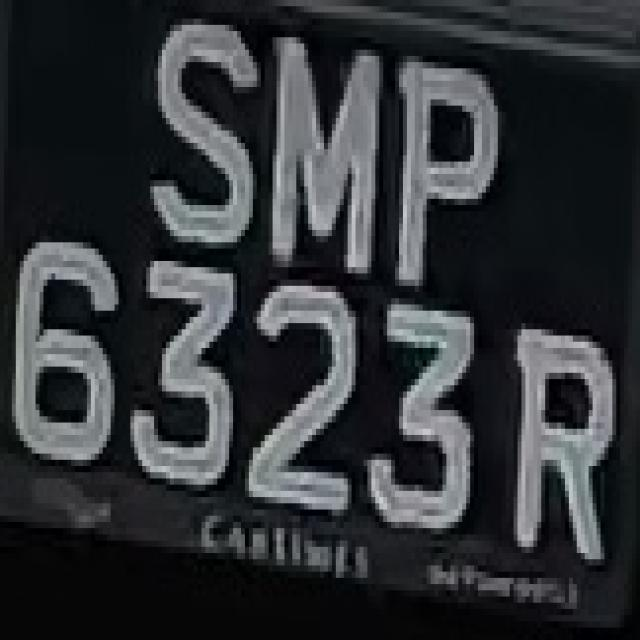2: (245, 280, 363, 528)
3: (126, 236, 249, 497), (364, 280, 470, 553)
6: (15, 217, 114, 491)
M: (257, 0, 387, 286)
P: (391, 25, 510, 292)
R: (510, 311, 612, 578)
S: (138, 0, 253, 255)
